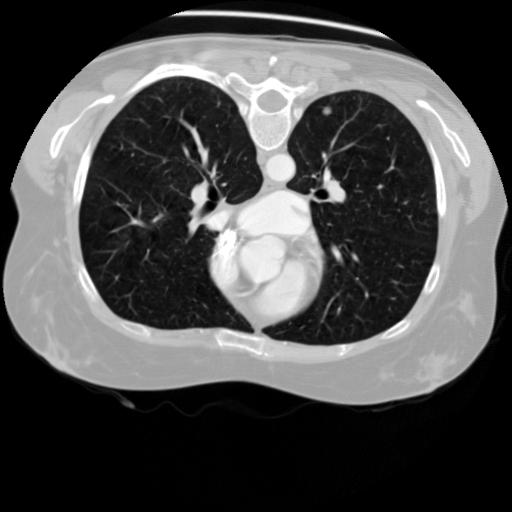nodule: (319, 104, 334, 119)
